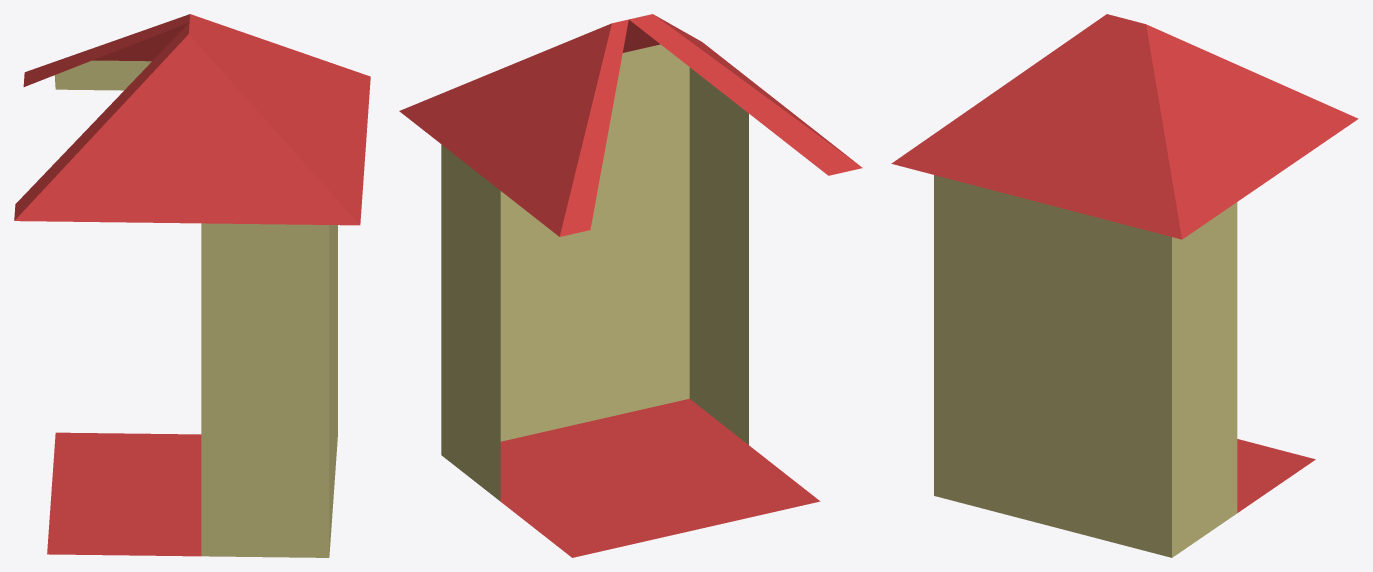
3 renders of one model, left to right at view 1: azimuth 30°, elevation 25°; view 2: azimuth 150°, elevation 25°; view 3: azimuth 270°, elevation 25°, orthographic. The views are drawn at different scales.
Visible parts, largest first — view 1: group_3, group_5, group_6; view 2: group_5, group_3, group_6; view 3: group_5, group_3, group_6.
Part boxes in pixels (x1=…): group_3: x1=14, y1=14, x2=370, y2=225; group_5: x1=54, y1=60, x2=337, y2=557; group_6: x1=47, y1=432, x2=201, y2=556; group_5: x1=441, y1=44, x2=748, y2=501; group_3: x1=399, y1=14, x2=862, y2=236; group_6: x1=500, y1=399, x2=820, y2=557; group_5: x1=934, y1=175, x2=1237, y2=557; group_3: x1=891, y1=14, x2=1358, y2=239; group_6: x1=1237, y1=439, x2=1315, y2=512.
Size of the model in its own units: 15.02 by 15.08 by 16.28.
